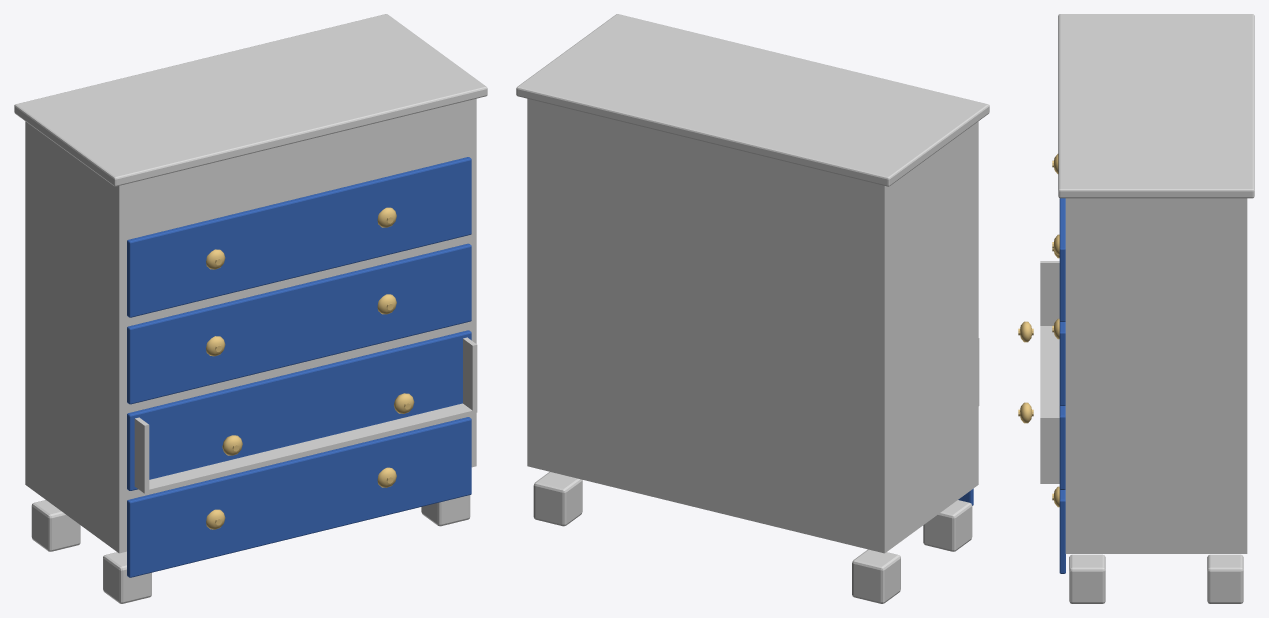
Rendered from toy_dresser.fbx.
3 views of the same model, side by side, from view 1: azimuth 30°, elevation 25°; view 2: azimuth 150°, elevation 25°; view 3: azimuth 270°, elevation 25° (orthographic). The views are drawn at different scales.
Parts seen in each view (by area): view 1: pine_1, blue_1, brass_1; view 2: pine_1; view 3: pine_1, blue_1, brass_1.
Part boxes in pixels (x1,y1,x2,y2): pine_1: (14,14,487,603); blue_1: (127,157,471,577); brass_1: (206,207,414,529); pine_1: (516,14,989,603); pine_1: (1040,14,1254,603); blue_1: (1059,198,1065,573); brass_1: (1018,154,1059,507).
Bounding box in the file's own units: 2.76 × 3.07 × 1.56.
